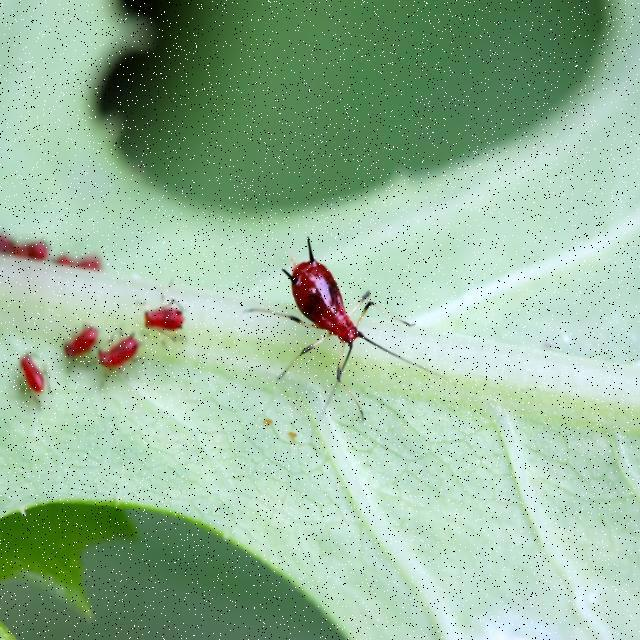Aphids: (235, 193, 443, 473)
